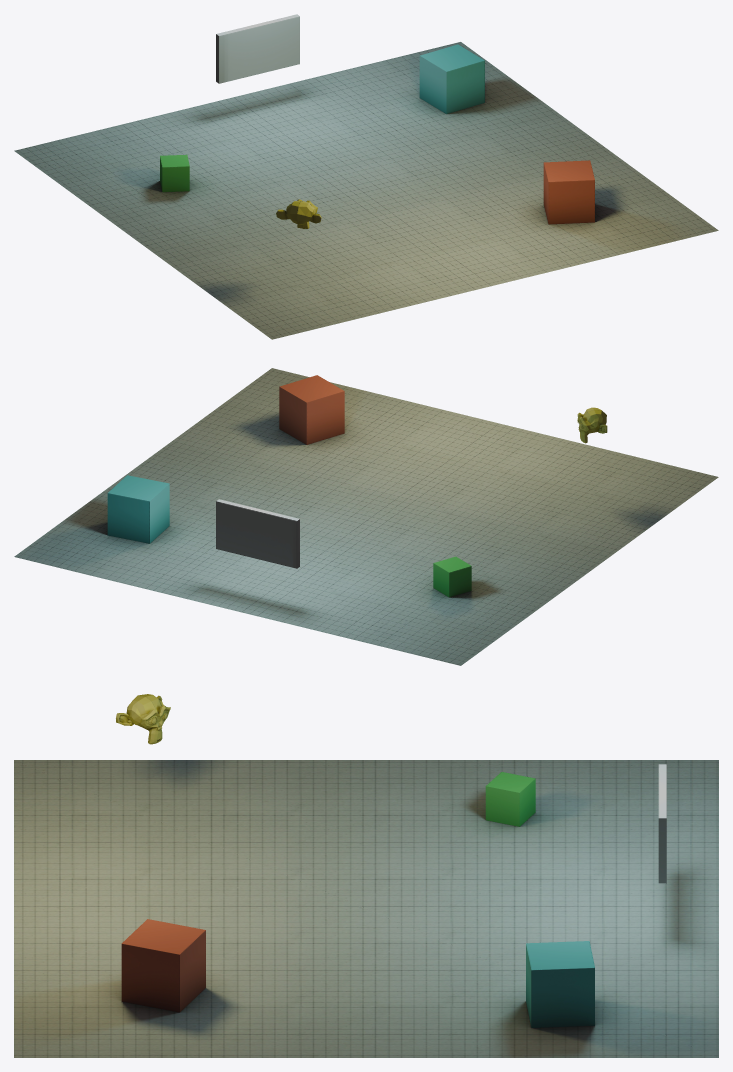
The model's file is IAspace.gltf.
The picture shows the model from 3 angles, top to bottom: view 1: azimuth 30°, elevation 25°; view 2: azimuth 150°, elevation 25°; view 3: azimuth 270°, elevation 25°; orthographic projection. The views are drawn at different scales.
Parts seen in each view (by area): view 1: sol_Baked, OBJETS_Baked, TonyPizza_Baked; view 2: sol_Baked, OBJETS_Baked, TonyPizza_Baked; view 3: sol_Baked, OBJETS_Baked, TonyPizza_Baked.
Part boxes in pixels (box(x1,y1,x2,y2)): sol_Baked: box(14, 42, 718, 339); OBJETS_Baked: box(160, 14, 594, 224); TonyPizza_Baked: box(276, 199, 321, 228); sol_Baked: box(14, 368, 718, 665); OBJETS_Baked: box(107, 375, 471, 597); TonyPizza_Baked: box(577, 407, 607, 443); sol_Baked: box(14, 760, 718, 1057); OBJETS_Baked: box(121, 764, 666, 1027); TonyPizza_Baked: box(116, 694, 170, 744).
Size of what is drawn, in the model's own units: 15 by 2.77 by 15.
3 materials, 3 textured.
